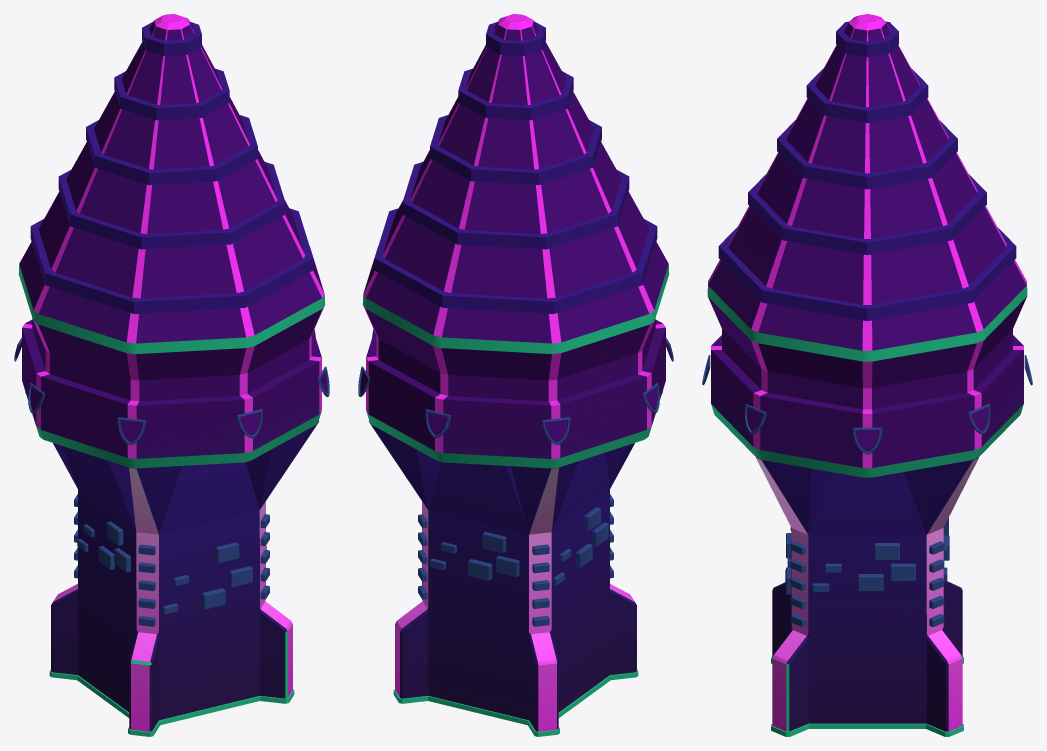
Rendered from Tower4_big.fbx.
The picture shows the model from 3 angles, left to right: view 1: azimuth 30°, elevation 25°; view 2: azimuth 150°, elevation 25°; view 3: azimuth 270°, elevation 25°; orthographic projection.
Visible parts, largest first — view 1: Tower2; view 2: Tower2; view 3: Tower2.
Part boxes in pixels (bbox=[...]): Tower2: bbox=[14, 14, 329, 736]; Tower2: bbox=[358, 14, 673, 736]; Tower2: bbox=[702, 14, 1032, 736].
Size of the model in its own units: 463 by 1047 by 463.
